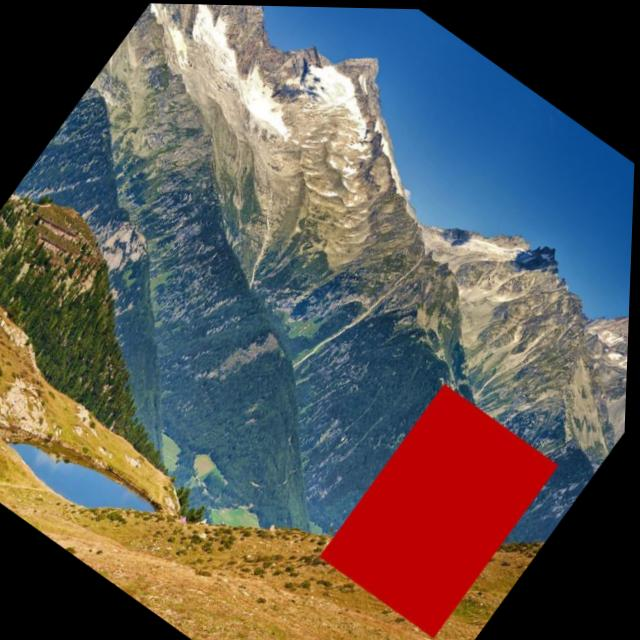RedSquare: (305, 364, 577, 640)
